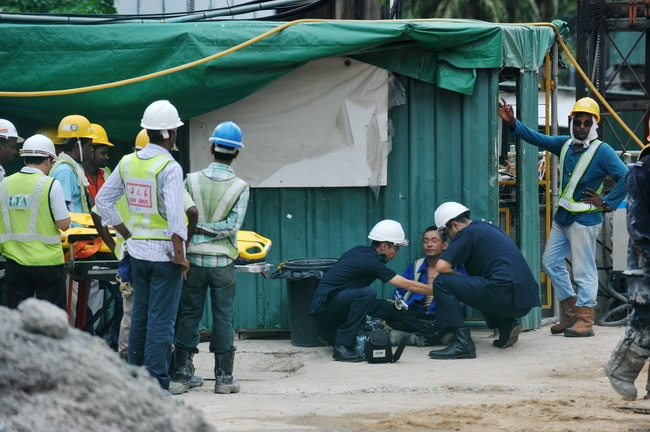blue: (206, 119, 243, 163)
none: (421, 224, 449, 259)
white: (139, 100, 181, 150), (365, 217, 406, 262), (433, 198, 471, 241), (18, 131, 55, 173), (1, 119, 19, 164)
yellow: (56, 114, 93, 160), (567, 96, 600, 142), (91, 125, 113, 166)
